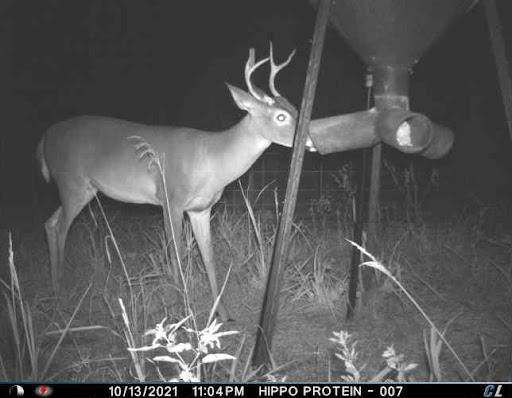Deer: (19, 32, 313, 336)
